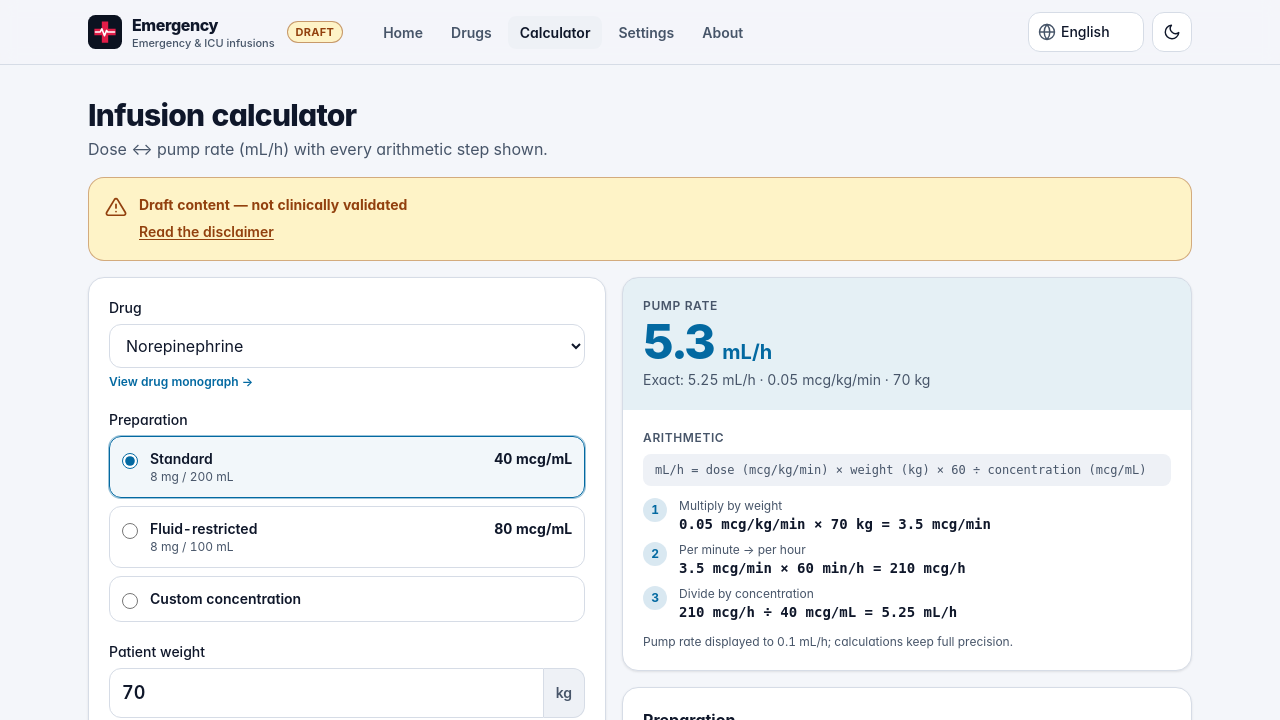
Calculator › custom concentration from amount/volume
Step 1. Click the radio button labelled "Custom concentration" → (130, 600), box [122,592,138,608]
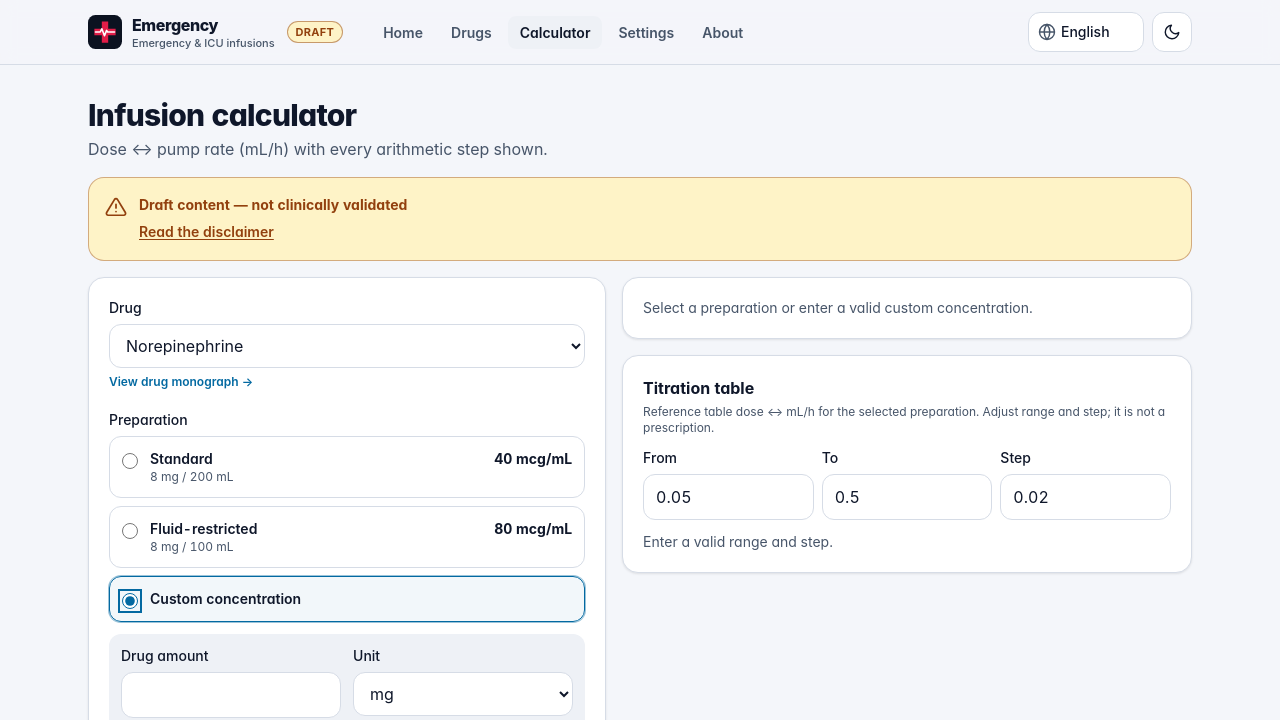
Step 2. Type "4" into the field with test id "custom-amount" → (231, 694), box [121,672,341,718]
(page scrolled)
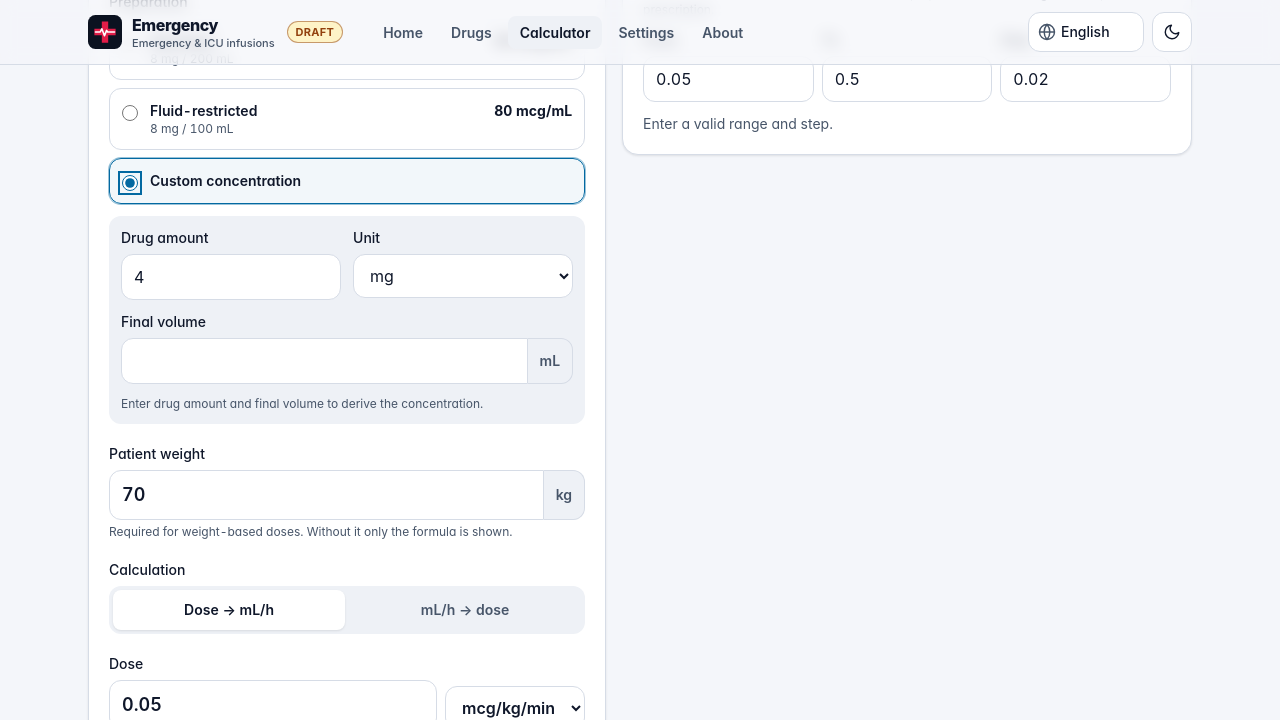
Step 3. Type "50" into the field with test id "custom-volume" → (324, 360), box [121,338,528,384]
(page scrolled)
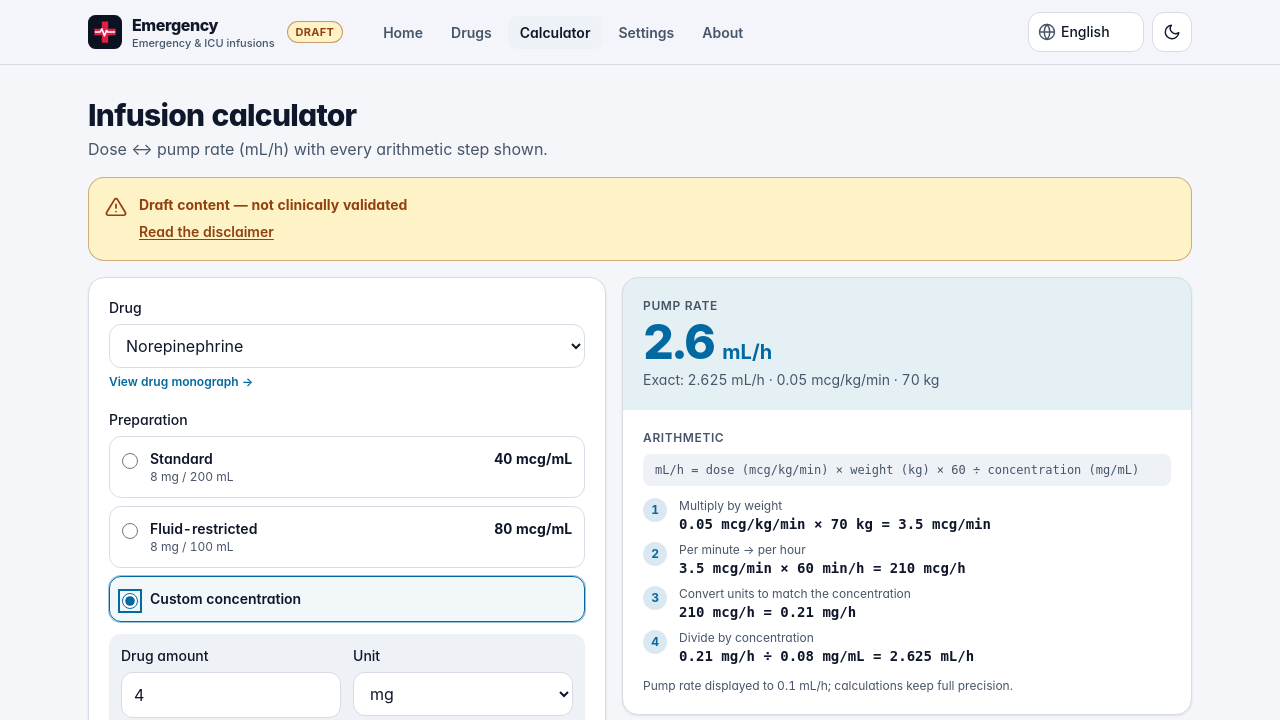
Check: the text with test id "rate-display" reads "2.6", box [643,312,714,370]
